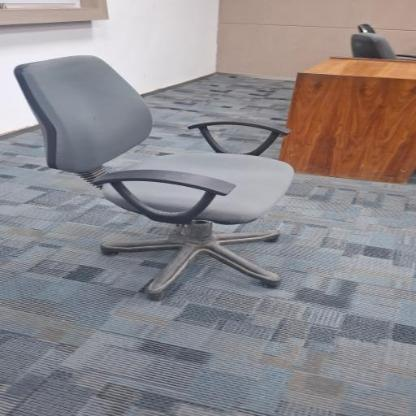chair: (10, 50, 302, 306)
